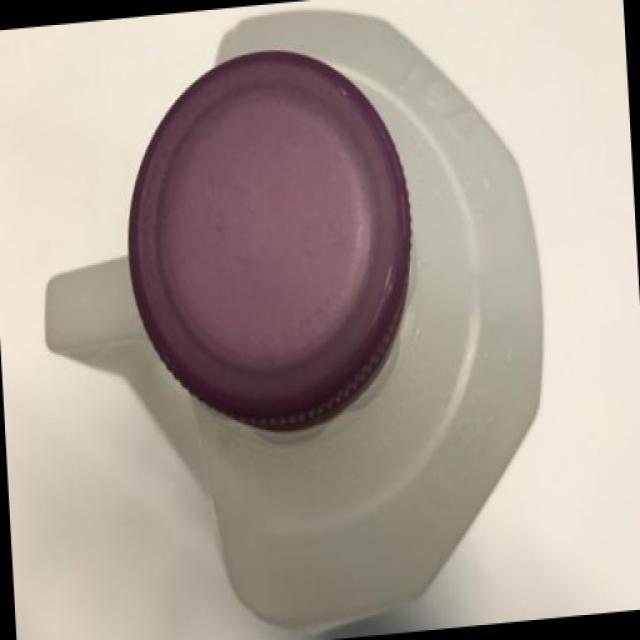plastico: (33, 10, 584, 637)
